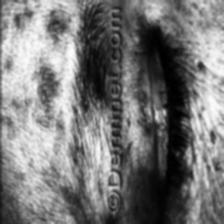Non-Cancerous Skin Condition: (128, 0, 224, 224), (0, 0, 98, 188), (90, 208, 124, 224)
